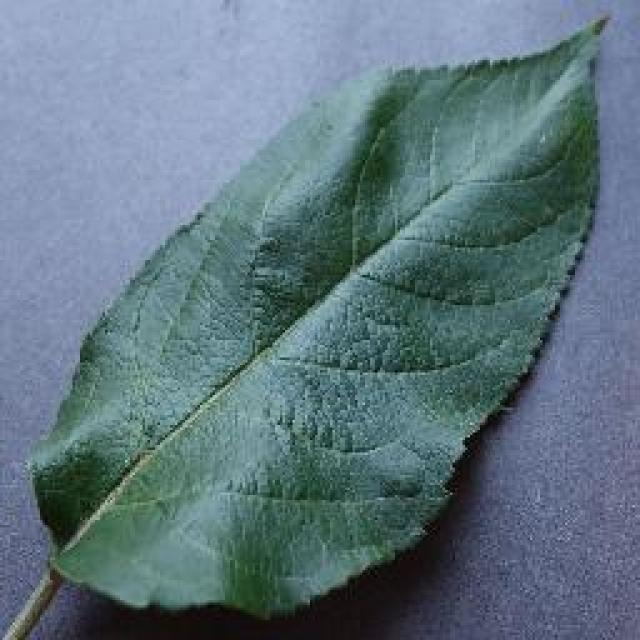apple healthy: (20, 10, 612, 625)
